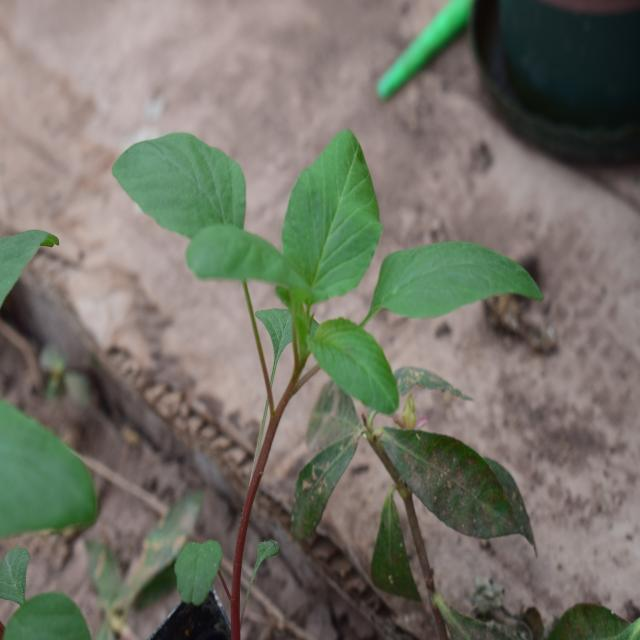pigweed: (110, 108, 473, 471)
